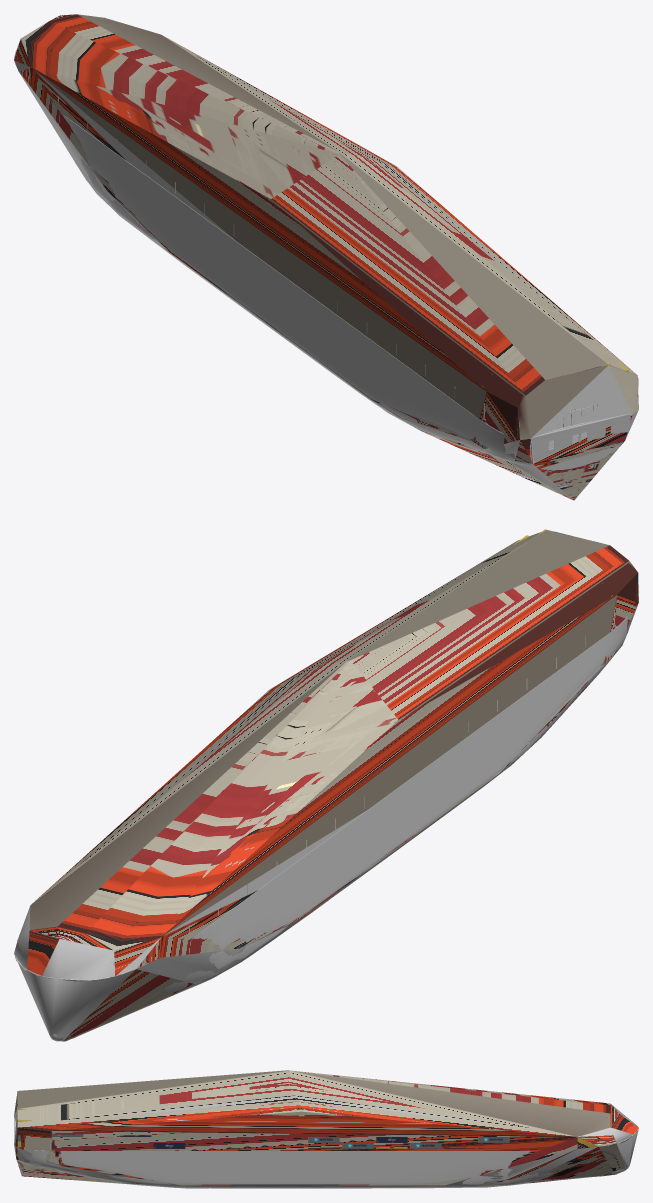
Rendered from Container Ship.fbx.
3 renders of one model, top to bottom at view 1: azimuth 30°, elevation 25°; view 2: azimuth 150°, elevation 25°; view 3: azimuth 270°, elevation 25°, orthographic. The views are drawn at different scales.
Parts seen in each view (by area): view 1: Ship.001, Ship; view 2: Ship.001, Ship; view 3: Ship.001, Ship.
Part boxes in pixels (left/top/right/bottom): Ship.001: left=14, top=14, right=638, bottom=500; Ship: left=14, top=15, right=638, bottom=500; Ship.001: left=14, top=530, right=638, bottom=1041; Ship: left=14, top=529, right=638, bottom=1041; Ship.001: left=14, top=1070, right=638, bottom=1188; Ship: left=14, top=1104, right=638, bottom=1188.
Size of the model in its own units: 62.87 by 8.86 by 11.64.
